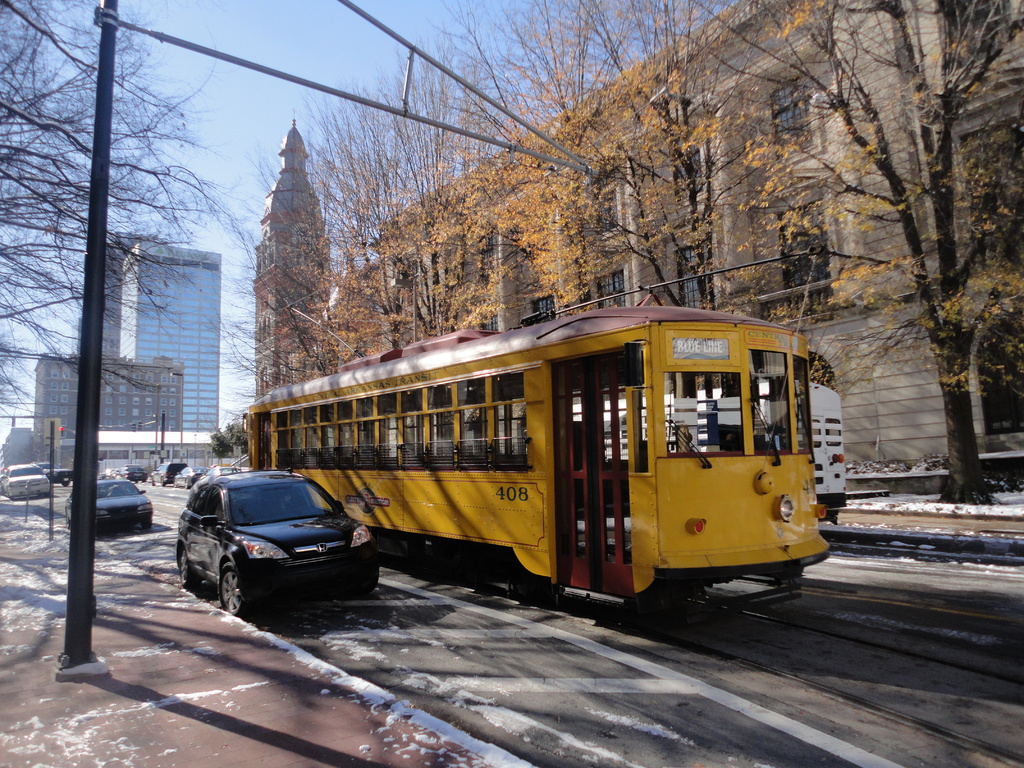Car: (175, 465, 380, 620), (68, 476, 154, 544), (0, 462, 52, 502)
